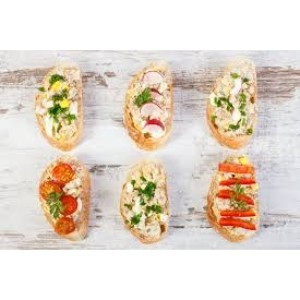tuna_brain food: (120, 63, 177, 148), (208, 69, 260, 153), (37, 65, 83, 156), (120, 165, 170, 244), (211, 169, 262, 236), (39, 171, 85, 239)
